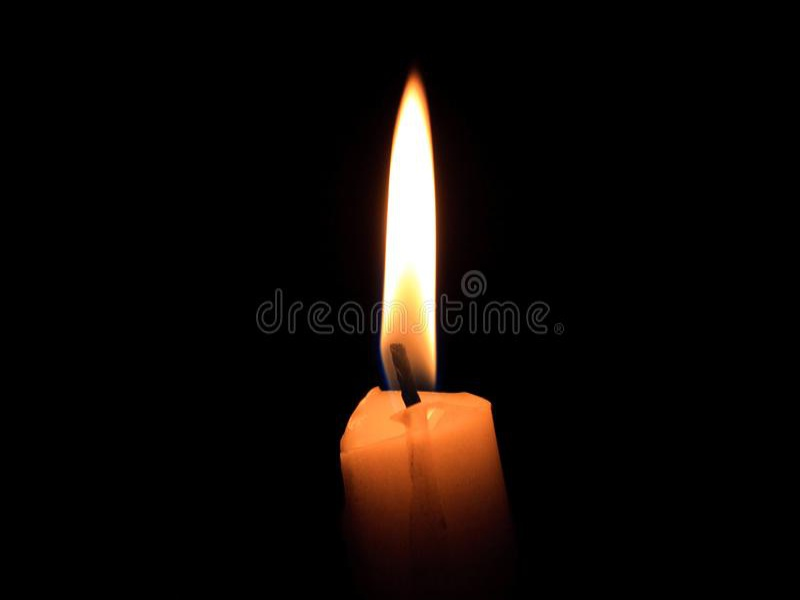fire: (378, 82, 440, 371)
